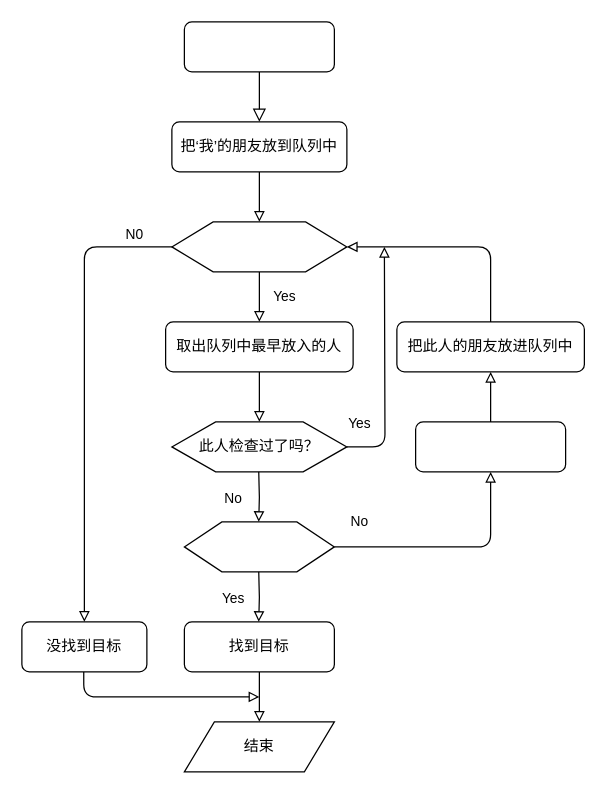
Some shapes in this 606 by 794 pixel diagram are drawn without their labels. Each missing label, with the centre of its shape:
"开始" belongs at [258,46].
"此人是老师吗？" belongs at [258,546].
"记录此人已检查过" belongs at [490,446].
"队列中还有人吗？" belongs at [259,246].
